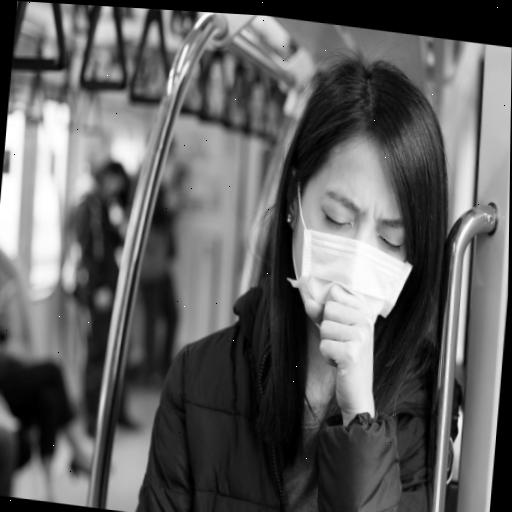mask: (267, 45, 455, 351)
